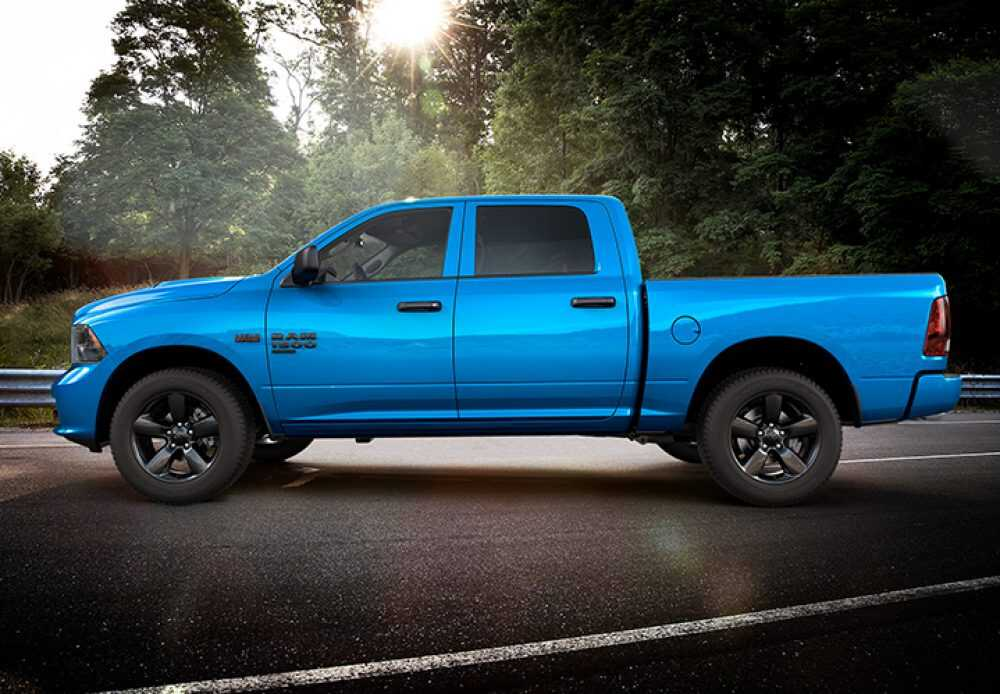Car: (46, 182, 970, 517)
